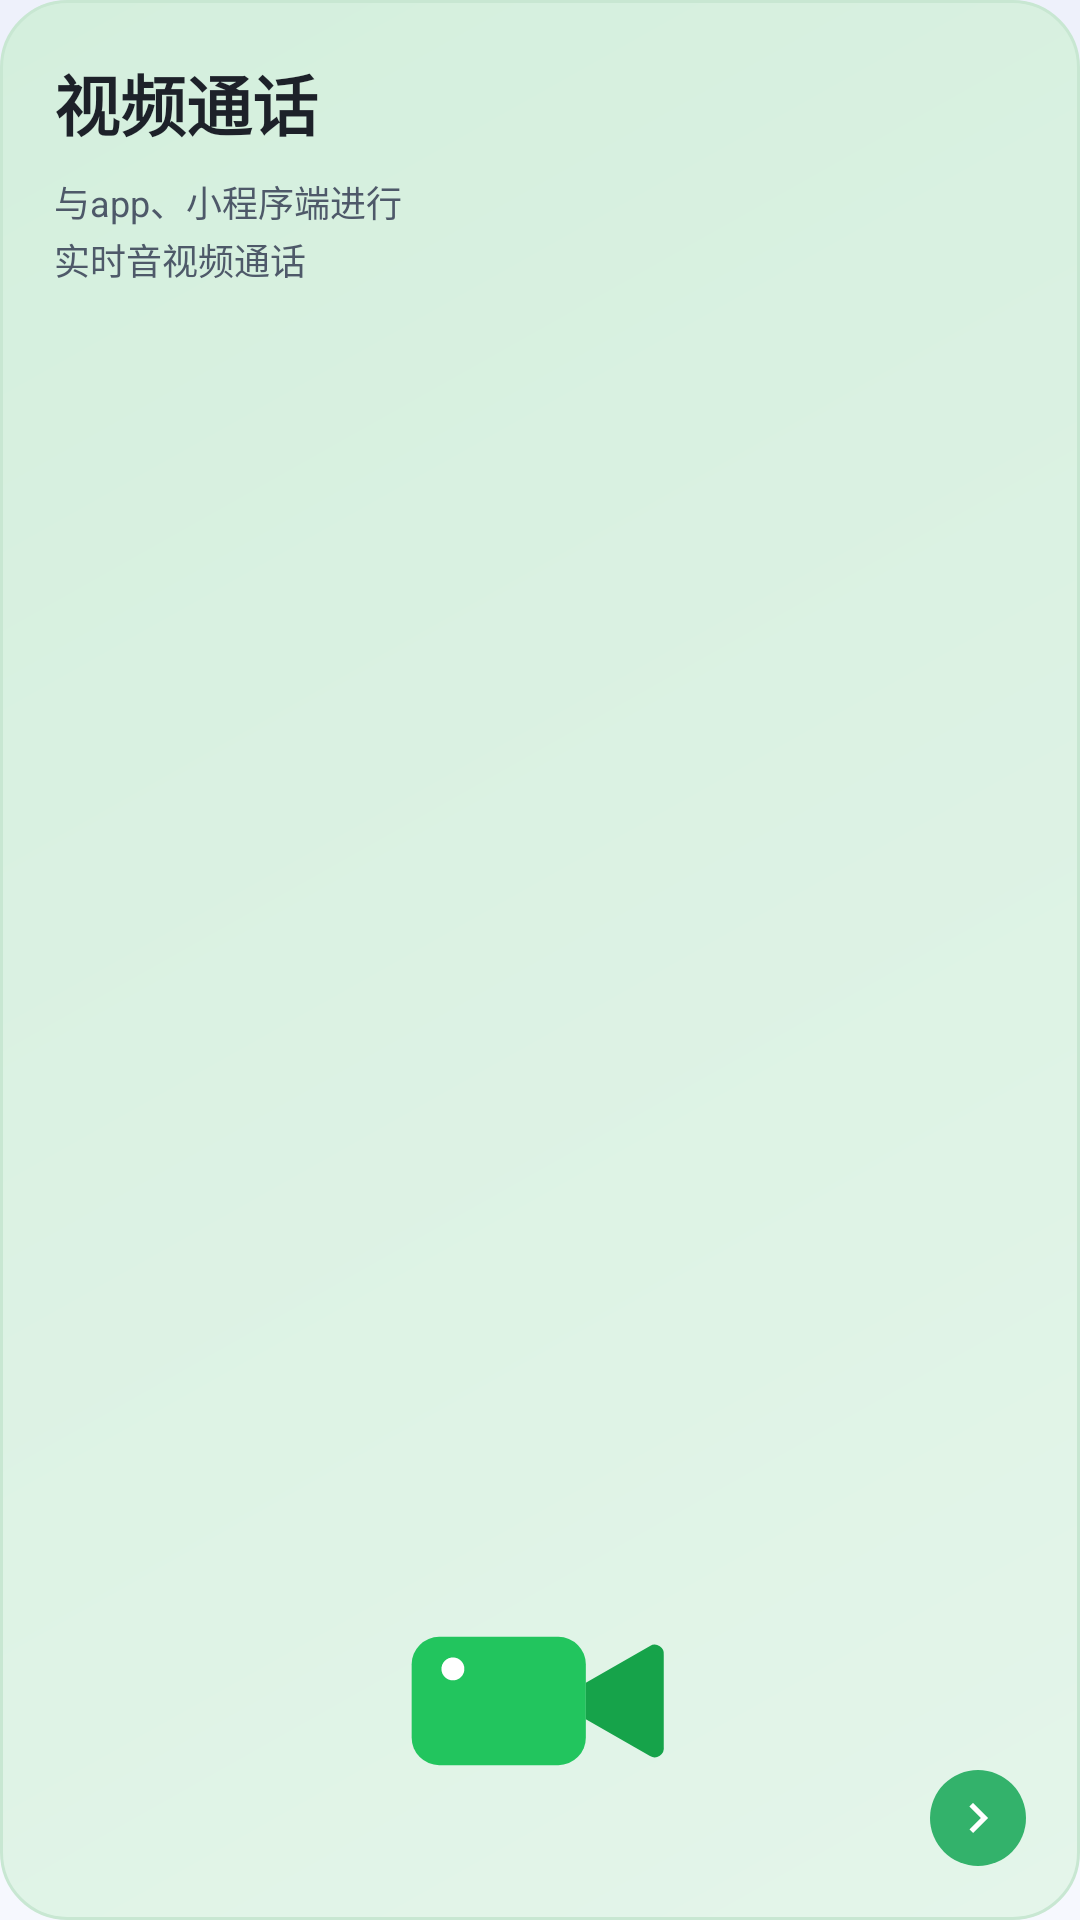

Screen size 1080 x 1920. Icon name, then its center in pixels as point (x, y):
home arrow right: point (978, 1818)
home card call: point (537, 1701)
